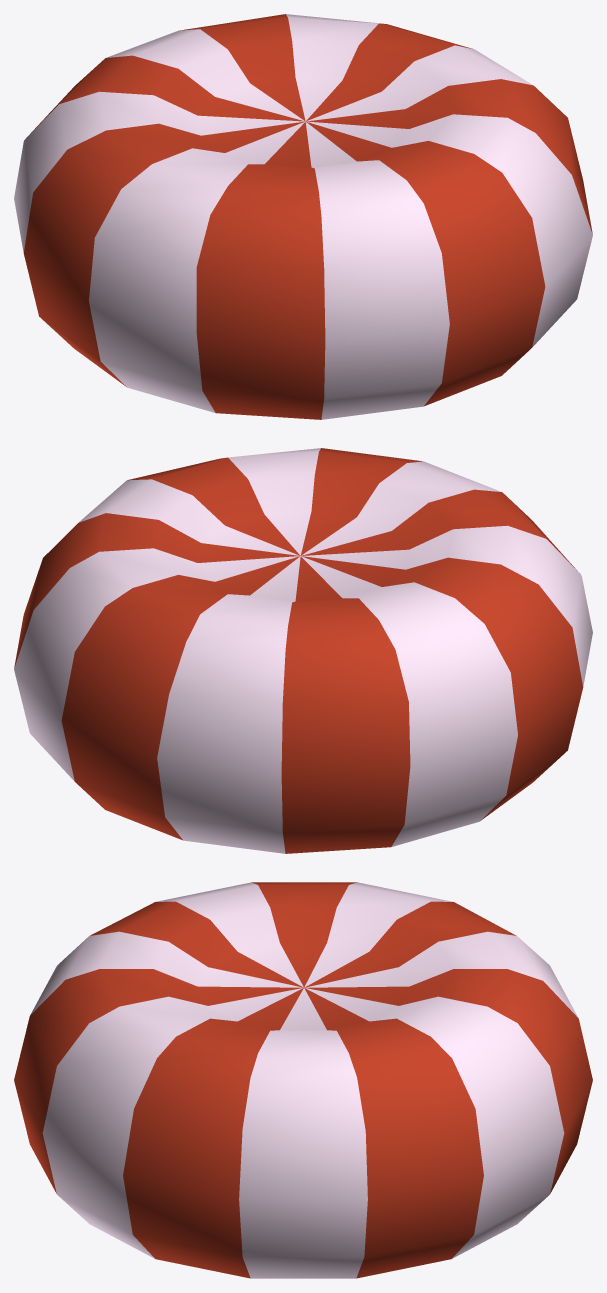
Rendered from candy.fbx.
The picture shows the model from 3 angles, top to bottom: view 1: azimuth 30°, elevation 25°; view 2: azimuth 150°, elevation 25°; view 3: azimuth 270°, elevation 25°; orthographic projection.
Visible parts, largest first — view 1: Cylinder; view 2: Cylinder; view 3: Cylinder.
Boxes of the visible parts, box(x1,y1,x2,y2) form: Cylinder: box(14, 14, 592, 419); Cylinder: box(14, 448, 592, 853); Cylinder: box(14, 882, 592, 1278).
Bounding box in the file's own units: 118 × 121 × 51.15.
